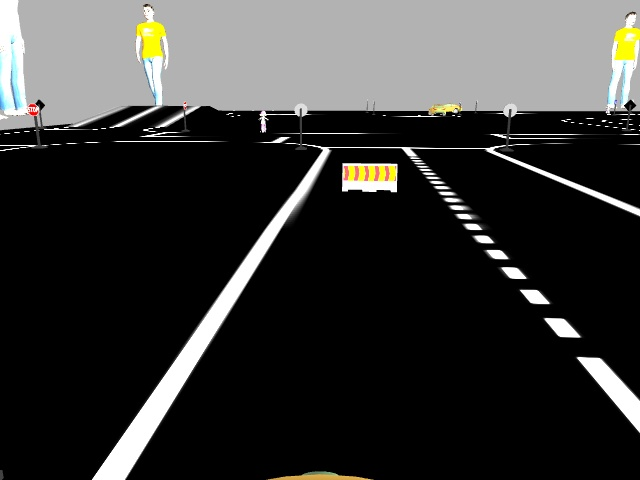ClosedRoadStand: (343, 164, 397, 192)
